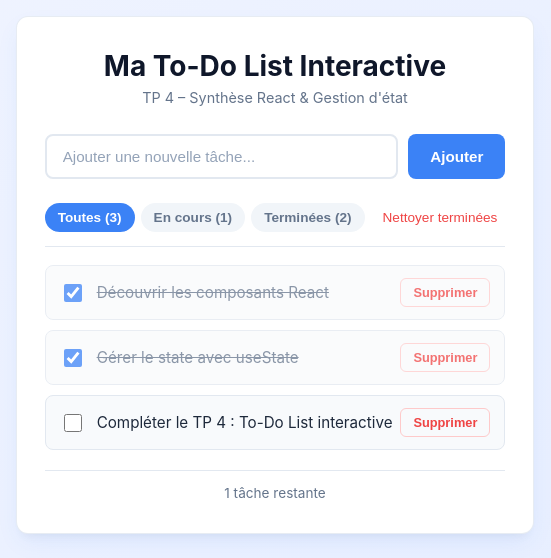
Scenario: permet de supprimer une tâche
The width and height of the screenshot is (551, 558).
Click the button "Supprimer" next to "Découvrir les composants React": (445, 292) [400,278,490,307]
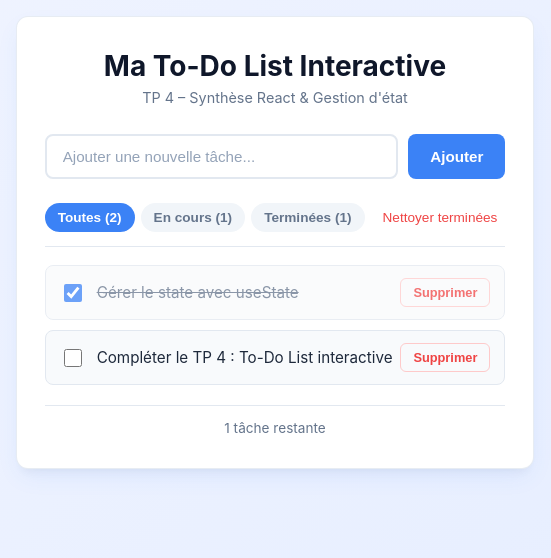
Result: the number of buttons "Supprimer" is 2 at [400,278,490,307]; [400,343,490,372]
